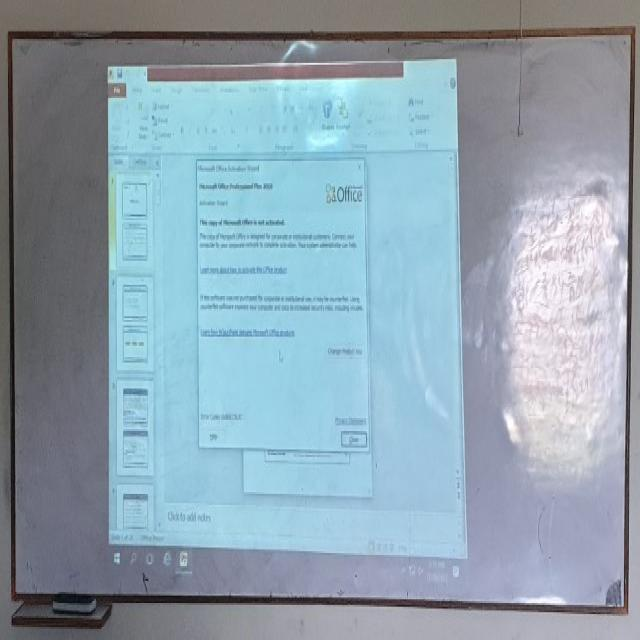Slide: (107, 56, 471, 593)
White-board: (11, 32, 632, 612)
